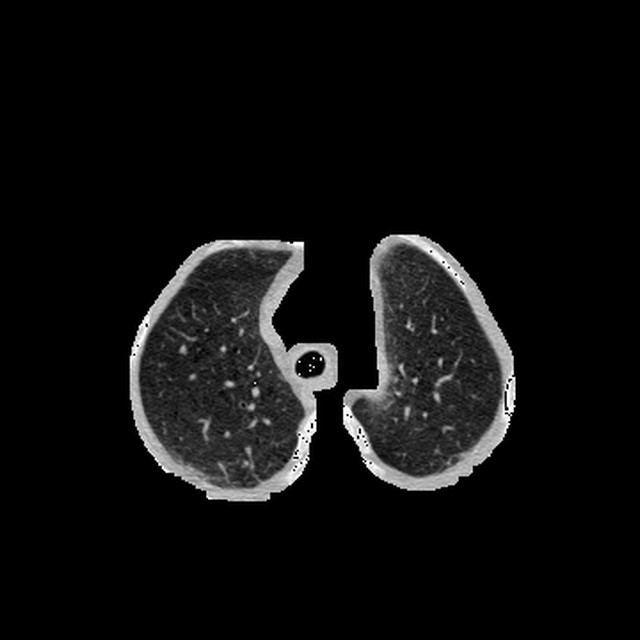PN: (180, 345, 187, 352)
